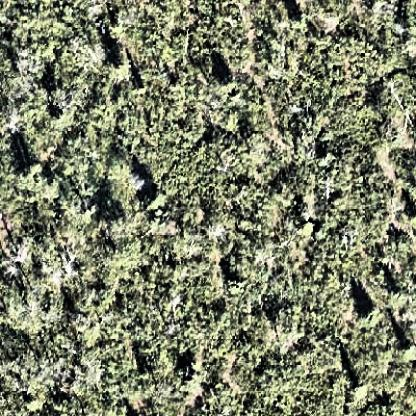tree-top: (18, 157, 43, 183), (180, 362, 205, 388), (358, 303, 382, 324), (145, 186, 167, 208), (107, 55, 128, 76), (398, 338, 415, 357), (222, 74, 238, 91), (348, 381, 364, 395)
